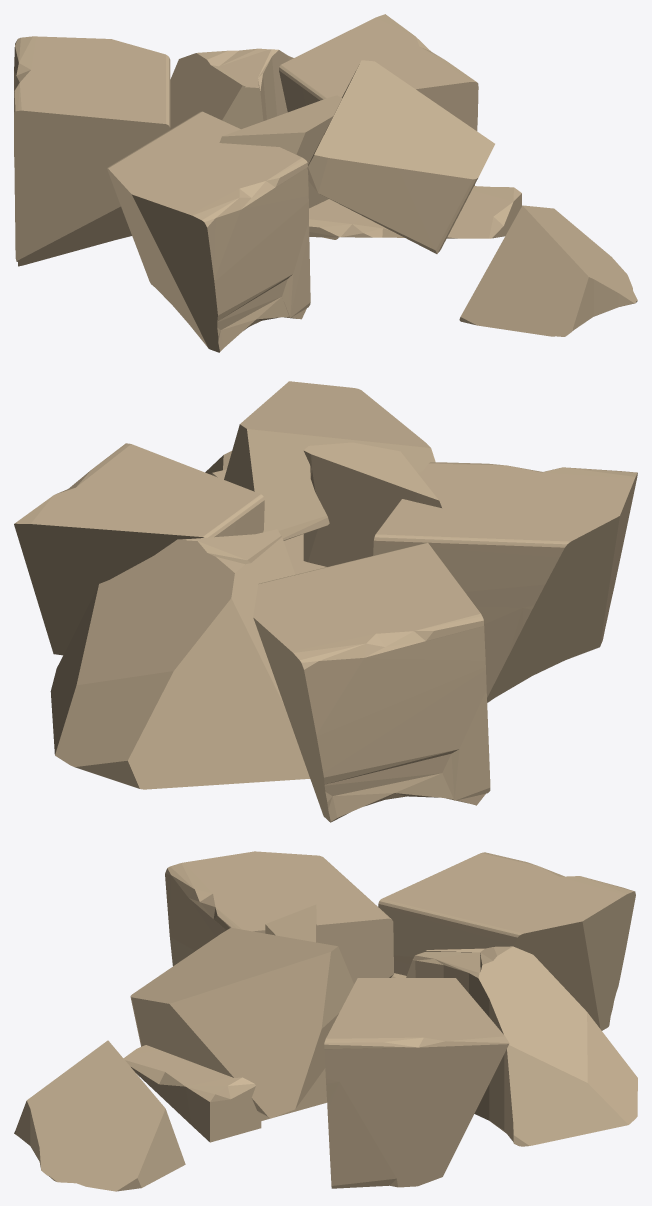
File: SM_stone_debris_05.fbx
3 renders of one model, top to bottom at view 1: azimuth 30°, elevation 25°; view 2: azimuth 150°, elevation 25°; view 3: azimuth 270°, elevation 25°, orthographic. The views are drawn at different scales.
Parts seen in each view (by area): view 1: stone_debris_05; view 2: stone_debris_05; view 3: stone_debris_05.
Boxes of the visible parts, x1,y1,x2,y2 form: stone_debris_05: (14, 14, 637, 352); stone_debris_05: (14, 381, 637, 822); stone_debris_05: (14, 851, 637, 1191).
Bounding box in the file's own units: 585 × 255 × 738.
